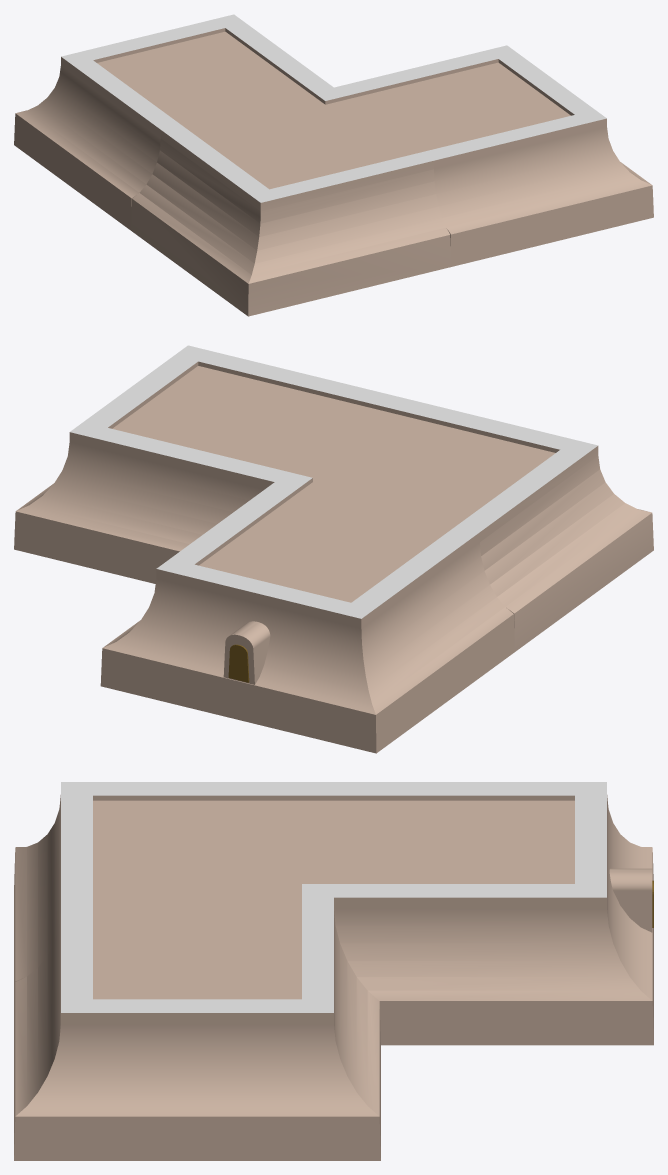
Rendered from Houses_3.fbx.
The picture shows the model from 3 angles, top to bottom: view 1: azimuth 30°, elevation 25°; view 2: azimuth 150°, elevation 25°; view 3: azimuth 270°, elevation 25°; orthographic projection. The views are drawn at different scales.
Visible parts, largest first — view 1: DCHouse_Corner.002, DCHouse_U.007, DCHouse_U.006; view 2: DCHouse_U.006, DCHouse_U.007, DCHouse_Corner.002, HouseDoor.004; view 3: DCHouse_U.007, DCHouse_U.006, DCHouse_Corner.002, HouseDoor.004.
Part boxes in pixels (bbox=[...]): DCHouse_Corner.002: bbox=[131, 87, 451, 316]; DCHouse_U.007: bbox=[334, 45, 653, 266]; DCHouse_U.006: bbox=[14, 14, 333, 230]; DCHouse_U.006: bbox=[100, 482, 514, 753]; DCHouse_U.007: bbox=[14, 345, 392, 583]; DCHouse_Corner.002: bbox=[275, 395, 653, 651]; HouseDoor.004: bbox=[223, 621, 270, 684]; DCHouse_U.007: bbox=[14, 897, 380, 1160]; DCHouse_U.006: bbox=[334, 782, 653, 1045]; DCHouse_Corner.002: bbox=[14, 782, 333, 1019]; HouseDoor.004: bbox=[609, 868, 653, 932].
Bounding box in the file's own units: 352 × 352 × 77.66.
